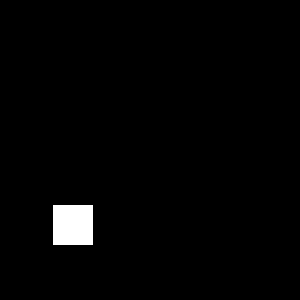circle: (53, 205, 93, 245)
